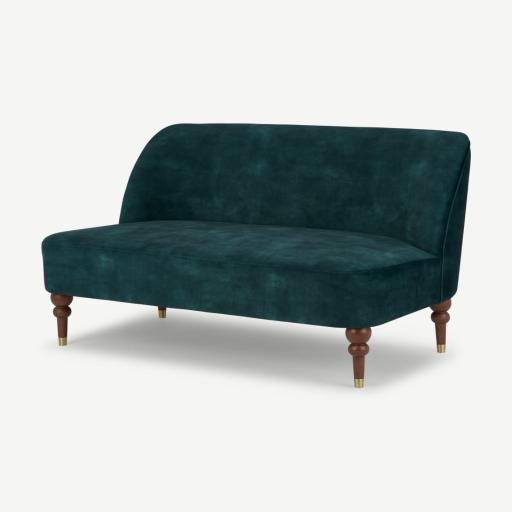back_cushion: (120, 124, 469, 258)
legs: (345, 327, 371, 388), (51, 294, 73, 346), (431, 300, 451, 353), (159, 307, 166, 318)
one-seater: (42, 124, 470, 388)
seat_cushion: (42, 221, 439, 327)
